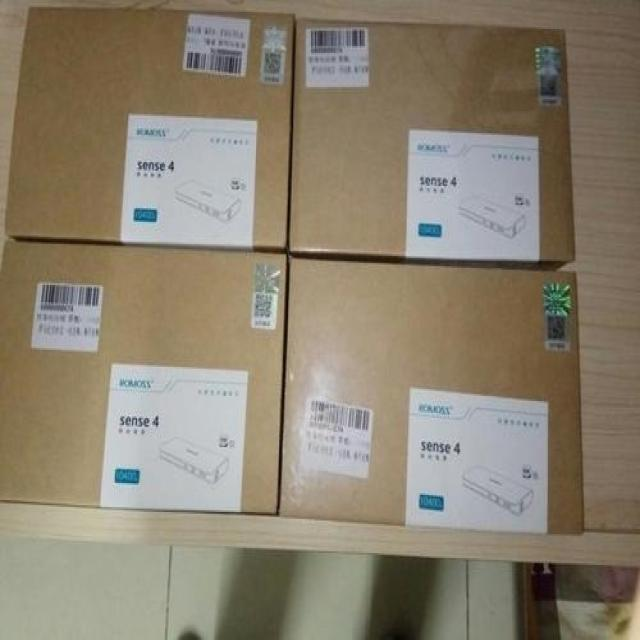box: (279, 256, 584, 534), (0, 244, 287, 515), (3, 5, 298, 256), (289, 20, 576, 271)
